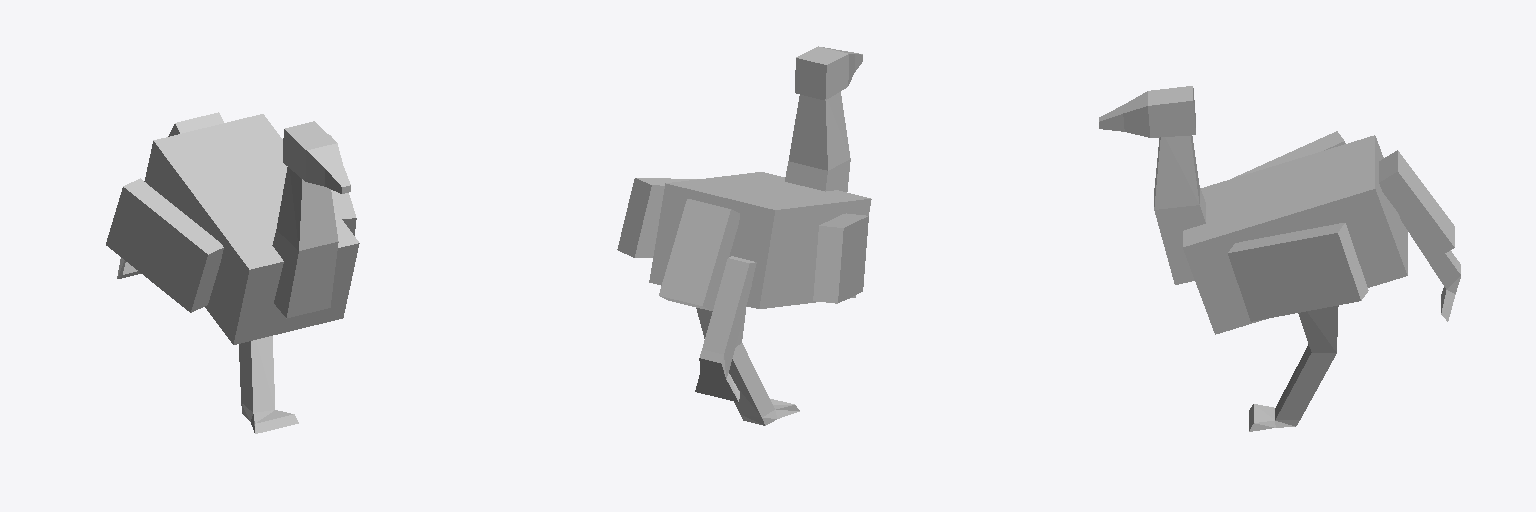
The model's file is Ostrich_000075.obj.
3 renders of one model, left to right at view 1: azimuth 30°, elevation 25°; view 2: azimuth 150°, elevation 25°; view 3: azimuth 270°, elevation 25°, orthographic.
Visible parts, largest first — view 1: Cube_Cube.001; view 2: Cube_Cube.001; view 3: Cube_Cube.001.
Part boxes in pixels (x1,y1,x2,y2): Cube_Cube.001: (106, 112, 359, 433); Cube_Cube.001: (617, 46, 871, 425); Cube_Cube.001: (1099, 86, 1460, 431).
Bounding box in the file's own units: 1 × 1.41 × 1.43.